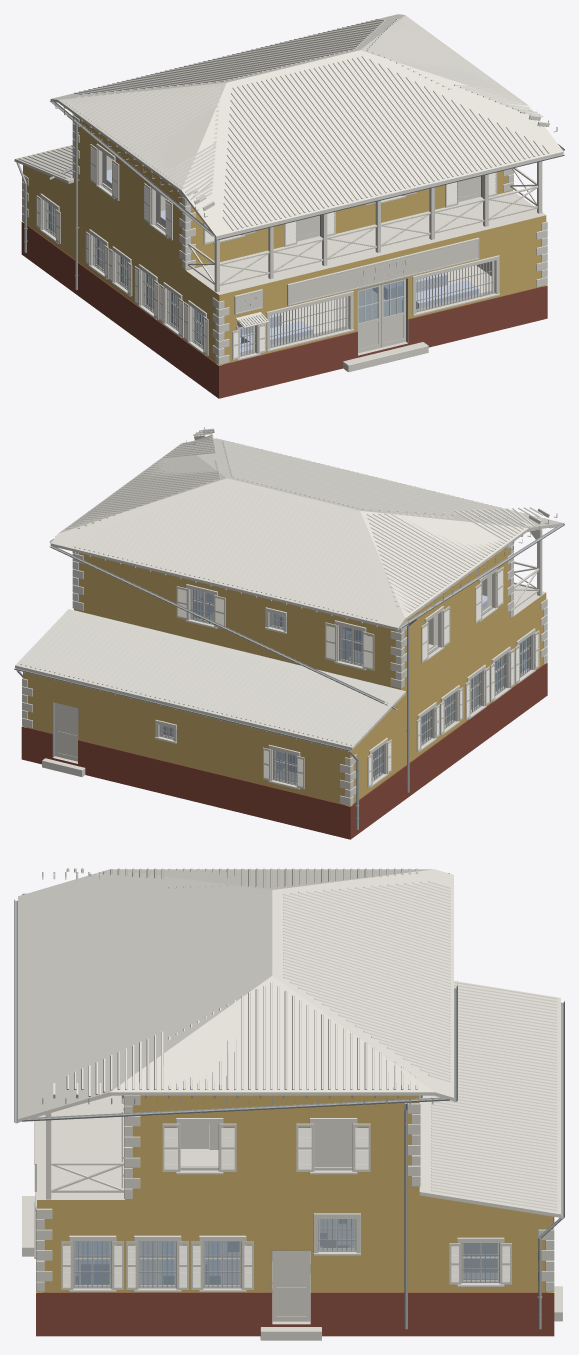
Rendered from cite_rhumerie_H01.glb.
The picture shows the model from 3 angles, top to bottom: view 1: azimuth 30°, elevation 25°; view 2: azimuth 150°, elevation 25°; view 3: azimuth 270°, elevation 25°; orthographic projection. The views are drawn at different scales.
Parts seen in each view (by area): view 1: Roof_Main, corrugated_rust, Shell_new_plaster_ochre_yellow, Shell_new_plaster_oxblood_brown, sandstone_ashlar, Shell_concrete_cast, new_timber_dark_stained, shutter_paint, steel_painted_worn, sign_cite_rhumerie, Shell_floor_tiles, galvanized_steel (+12 smaller); view 2: Shell_new_plaster_ochre_yellow, corrugated_rust, Roof_Main, Roof_Annex, Shell_new_plaster_oxblood_brown, sandstone_ashlar, shutter_paint, steel_painted_worn, galvanized_steel, glass, Shell_paint_clean, new_timber_dark_stained (+3 smaller); view 3: corrugated_rust, Roof_Main, Shell_new_plaster_ochre_yellow, Shell_new_plaster_oxblood_brown, Roof_Annex, sandstone_ashlar, Shell_concrete_cast, shutter_paint, glass, galvanized_steel, steel_painted_worn, DoorLeaf_04_R_in (+7 smaller).
Boxes of the visible parts, <box> form: Roof_Main: <box>50,14,563,238</box>; corrugated_rust: <box>18,19,549,326</box>; Shell_new_plaster_ochre_yellow: <box>22,115,546,365</box>; Shell_new_plaster_oxblood_brown: <box>21,222,547,398</box>; sandstone_ashlar: <box>22,115,547,372</box>; Shell_concrete_cast: <box>186,191,545,355</box>; new_timber_dark_stained: <box>63,107,549,327</box>; shutter_paint: <box>36,144,497,360</box>; steel_painted_worn: <box>41,176,495,356</box>; sign_cite_rhumerie: <box>287,237,478,305</box>; Shell_floor_tiles: <box>174,197,491,341</box>; galvanized_steel: <box>14,101,564,290</box>; Shell_new_plaster_ochre_yellow: <box>22,547,547,806</box>; corrugated_rust: <box>20,429,545,745</box>; Roof_Main: <box>50,438,563,630</box>; Roof_Annex: <box>15,609,405,750</box>; Shell_new_plaster_oxblood_brown: <box>21,663,547,839</box>; sandstone_ashlar: <box>22,543,547,805</box>; shutter_paint: <box>176,566,539,788</box>; steel_painted_worn: <box>52,574,534,785</box>; galvanized_steel: <box>14,427,564,829</box>; glass: <box>163,590,528,782</box>; Shell_paint_clean: <box>160,589,528,784</box>; new_timber_dark_stained: <box>73,428,555,627</box>; corrugated_rust: <box>20,868,557,1211</box>; Roof_Main: <box>18,869,453,1122</box>; Shell_new_plaster_ochre_yellow: <box>36,1095,554,1292</box>; Shell_new_plaster_oxblood_brown: <box>36,1216,554,1336</box>; Roof_Annex: <box>419,981,560,1217</box>; sandstone_ashlar: <box>22,1095,562,1340</box>; Shell_concrete_cast: <box>37,1095,497,1324</box>; shutter_paint: <box>61,1096,511,1289</box>; glass: <box>75,1219,497,1284</box>; galvanized_steel: <box>14,872,564,1329</box>; steel_painted_worn: <box>73,1108,499,1292</box>; DoorLeaf_04_R_in: <box>272,1251,310,1321</box>.
Bounding box in the file's own units: 14.02 × 8.6 × 14.41.
